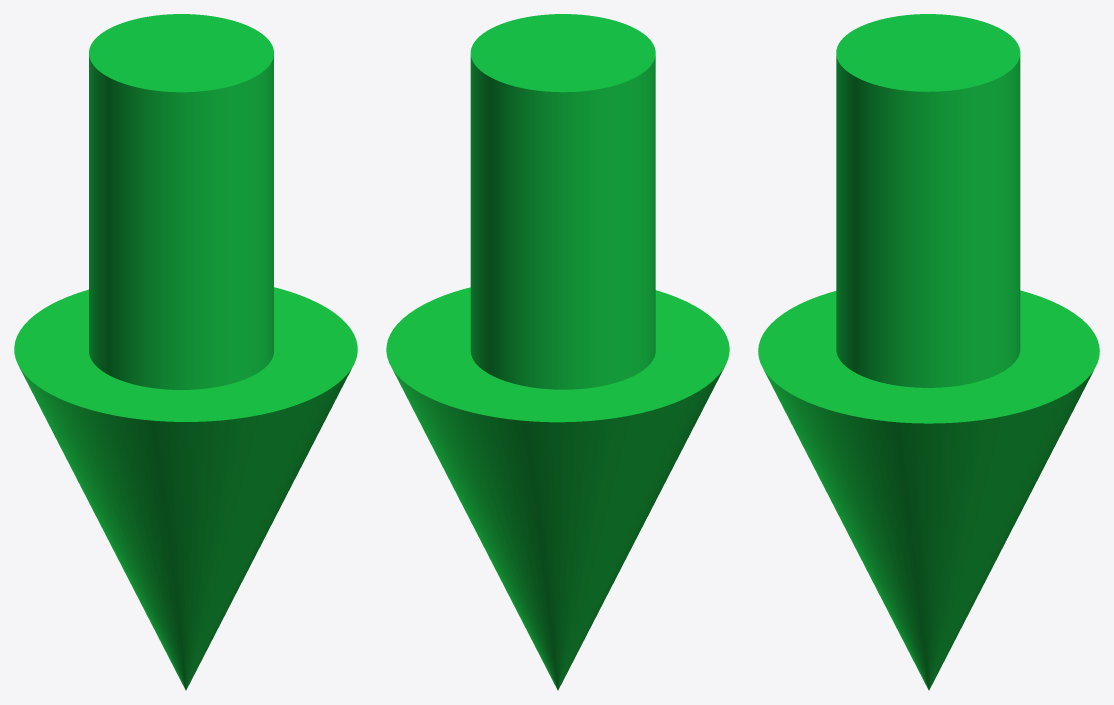
The model's file is Arrow.fbx.
The picture shows the model from 3 angles, left to right: view 1: azimuth 30°, elevation 25°; view 2: azimuth 150°, elevation 25°; view 3: azimuth 270°, elevation 25°; orthographic projection.
Parts seen in each view (by area): view 1: root (×2); view 2: root (×2); view 3: root (×2).
Part boxes in pixels (x1,y1,x2,y2): root (×2): [14, 14, 357, 690]; root (×2): [386, 14, 729, 690]; root (×2): [758, 14, 1099, 690].
Bounding box in the file's own units: 0.6115 × 1.26 × 0.6115.
Materials: 2 (1 with a texture image).
